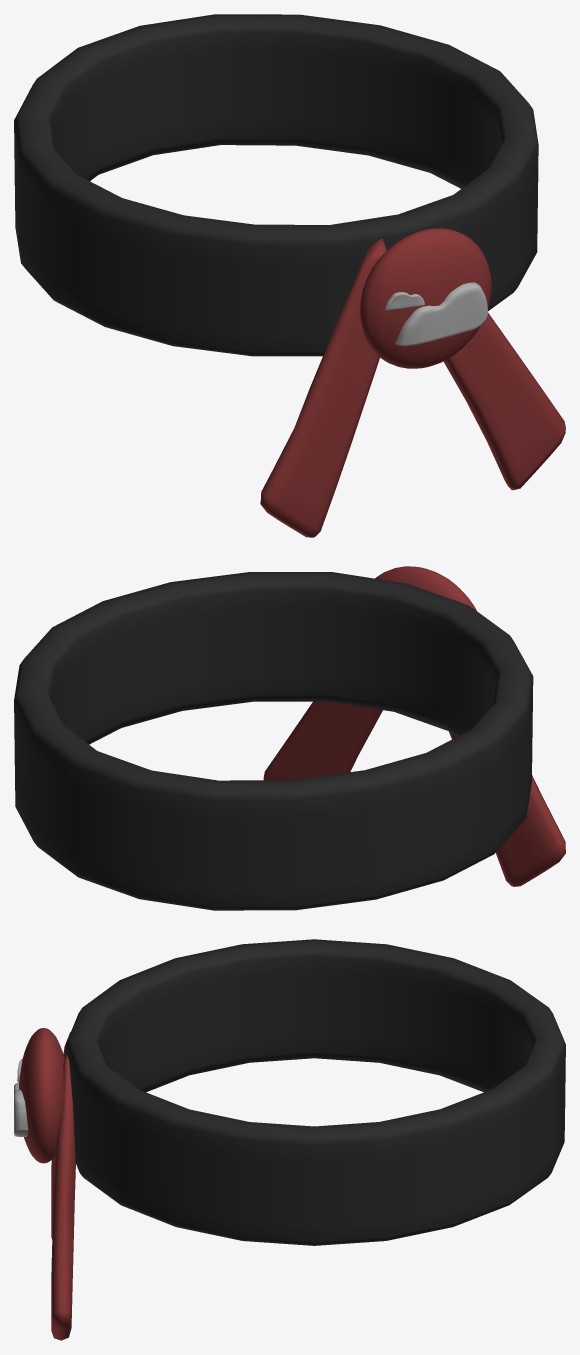
The model's file is cinturon.fbx.
3 views of the same model, one above another, from view 1: azimuth 30°, elevation 25°; view 2: azimuth 150°, elevation 25°; view 3: azimuth 270°, elevation 25° (orthographic). The views are drawn at different scales.
Visible parts, largest first — view 1: pCylinder1, pPlane3, pSphere1, pPlane2, pPlane1; view 2: pCylinder1, pPlane2, pPlane3, pSphere1; view 3: pCylinder1, pPlane2, pSphere1, pPlane1.
Boxes of the visible parts, x1,y1,x2,y2 form: pCylinder1: (14,14,538,356); pPlane3: (260,239,386,537); pSphere1: (360,228,491,368); pPlane2: (443,313,565,490); pPlane1: (395,282,488,346); pCylinder1: (14,572,533,910); pPlane2: (263,701,382,780); pPlane3: (449,732,565,886); pSphere1: (375,566,476,610); pCylinder1: (66,939,565,1245); pPlane2: (51,1054,75,1340); pSphere1: (19,1028,64,1163); pPlane1: (14,1082,28,1136).
Size of the model in its own units: 6.51 by 3.96 by 7.54.
